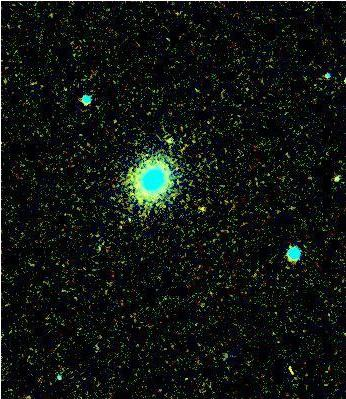star: (187, 194, 217, 224)
